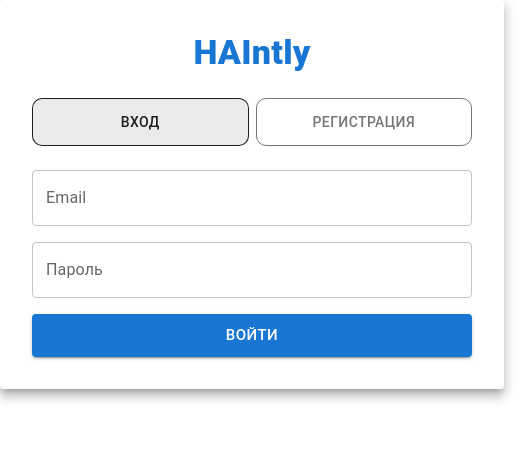
Test: AuthForm interactions › показывает validation без запроса
The width and height of the screenshot is (528, 465).
Click the button "Войти": x=252, y=336 [32,314,472,357]
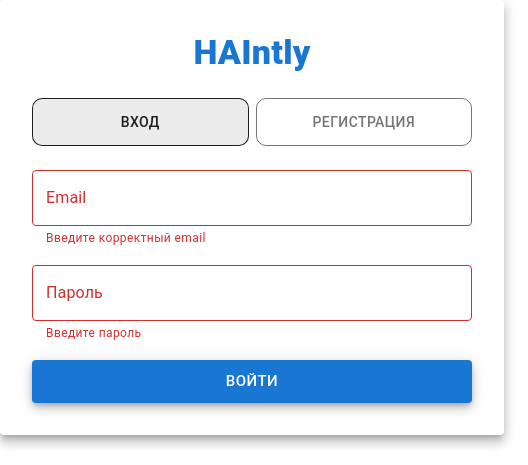
Check: the text "Введите корректный email" is shown 2 times, box [46,232,206,246]; [46,326,142,340]
